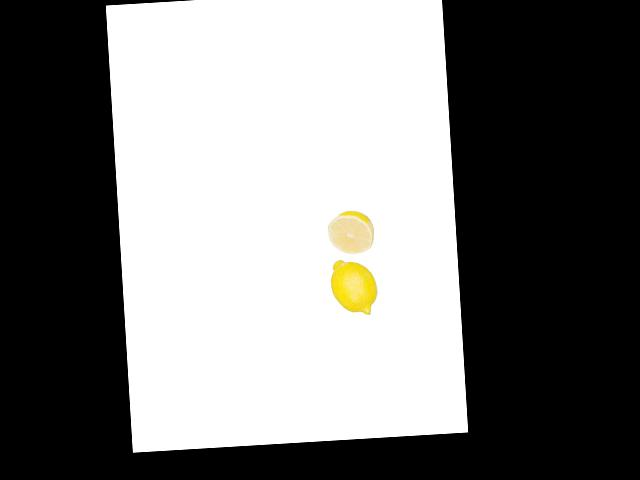lemon: (328, 257, 379, 315)
